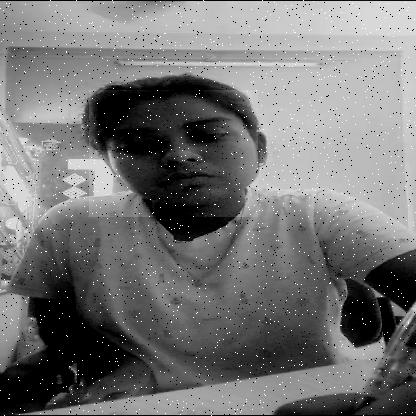Normal: (89, 90, 258, 217)
